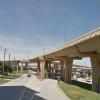Bridge: (30, 25, 97, 78)
